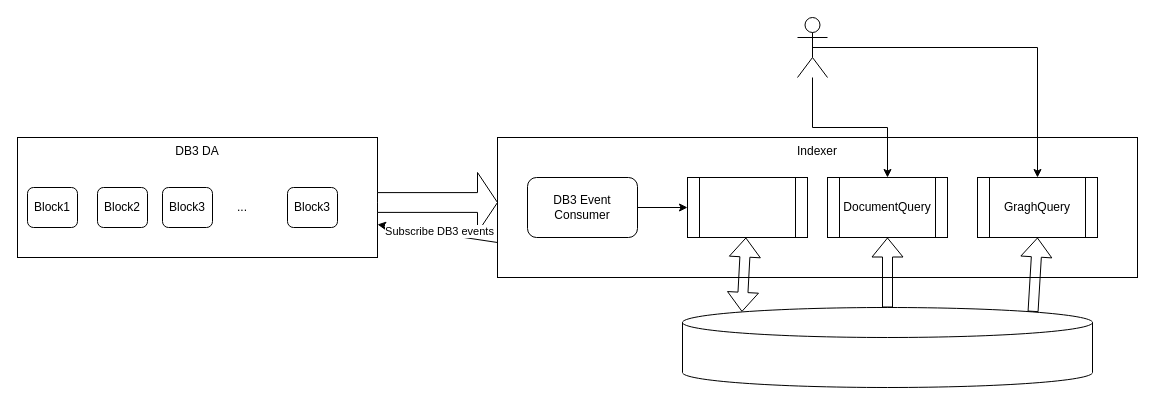
This 1155x405 diagram has some shape labels left out. Here are the shapes that lost their labels. From the top down, the centre of each, then its label:
[812,47]: SDK/API
[437,202]: MutationEvent
[747,207]: ApplyDatabase
[887,347]: Indexer KV store
